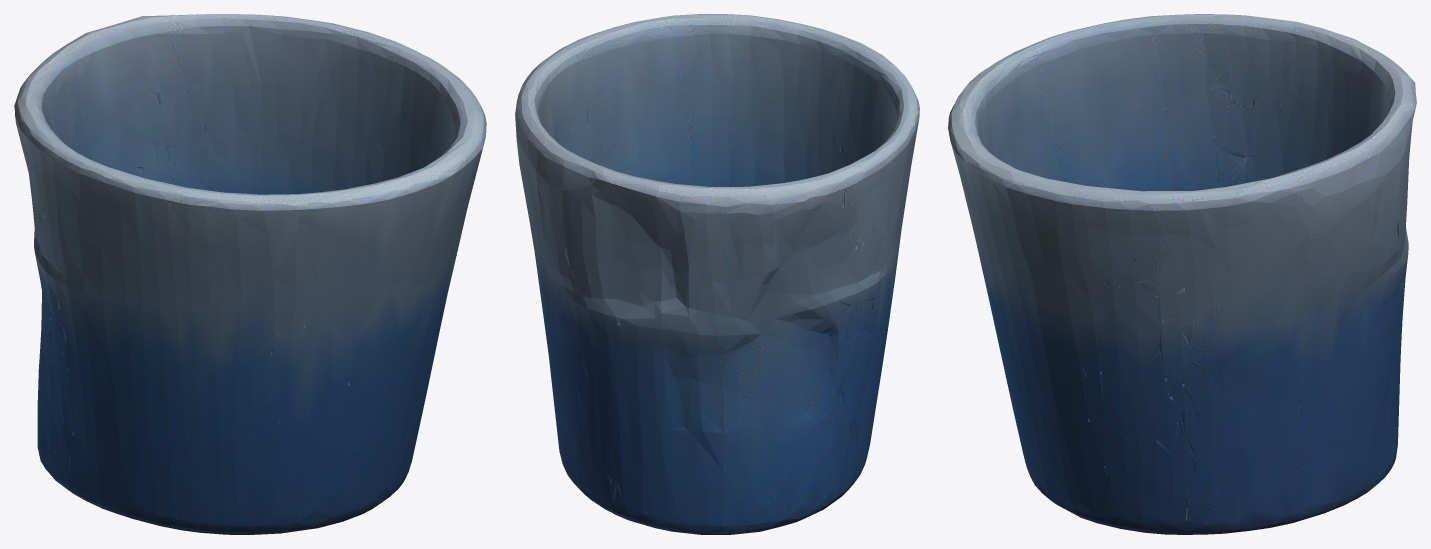
Rendered from blue_trash_can_000.glb.
3 views of the same model, side by side, from view 1: azimuth 30°, elevation 25°; view 2: azimuth 150°, elevation 25°; view 3: azimuth 270°, elevation 25° (orthographic). The views are drawn at different scales.
Visible parts, largest first — view 1: phase2_final_blue_trash_can_000.obj; view 2: phase2_final_blue_trash_can_000.obj; view 3: phase2_final_blue_trash_can_000.obj.
Boxes of the visible parts, x1,y1,x2,y2 form: phase2_final_blue_trash_can_000.obj: [14, 14, 486, 534]; phase2_final_blue_trash_can_000.obj: [515, 14, 919, 534]; phase2_final_blue_trash_can_000.obj: [948, 14, 1416, 534].
Size of the model in its own units: 0.1564 by 0.1465 by 0.1647.
1 material, 1 textured.
